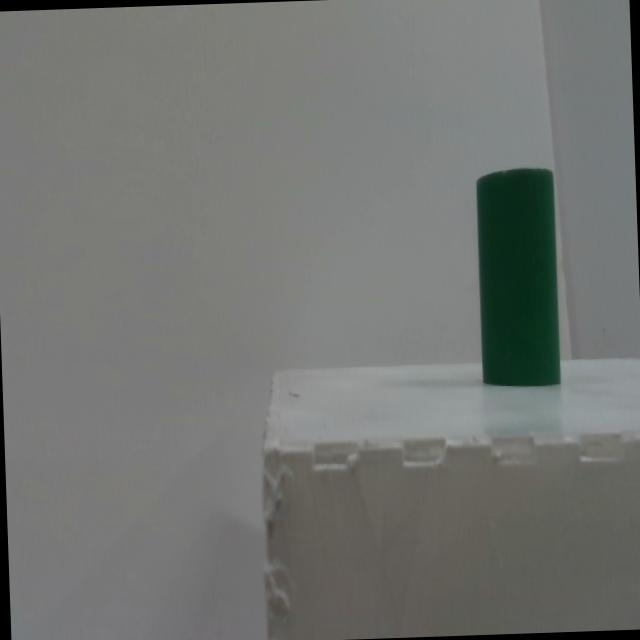green_cylinder: (476, 168, 562, 388)
